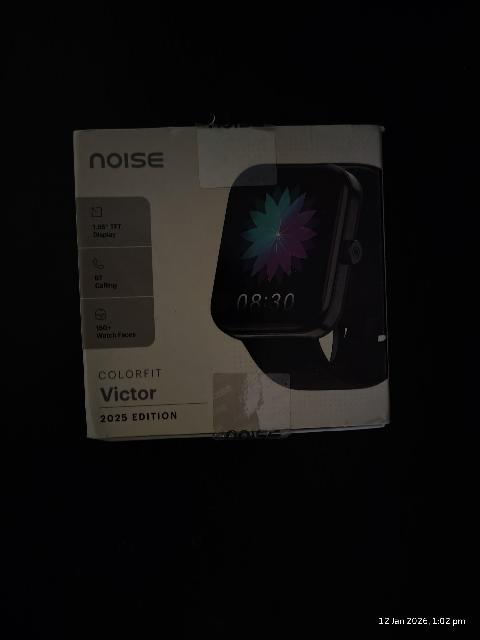noise victor smartwatch: (66, 122, 393, 445)
